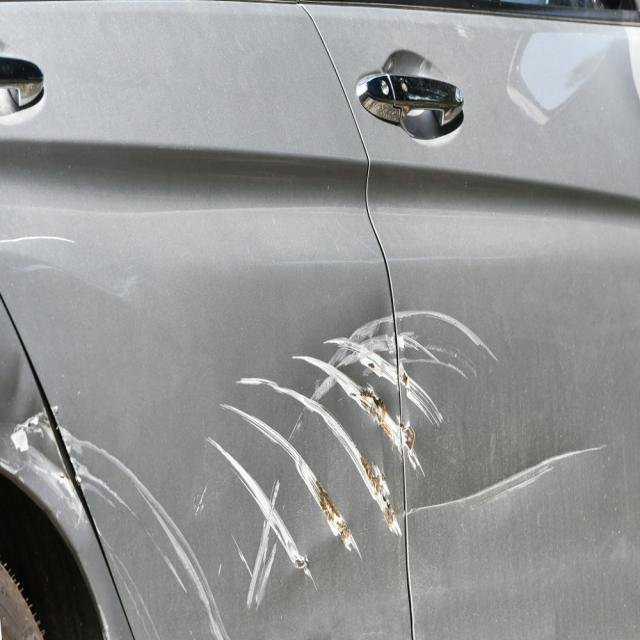dent: (0, 350, 66, 493)
scratch: (198, 308, 404, 614), (394, 307, 608, 521), (58, 425, 232, 640)
